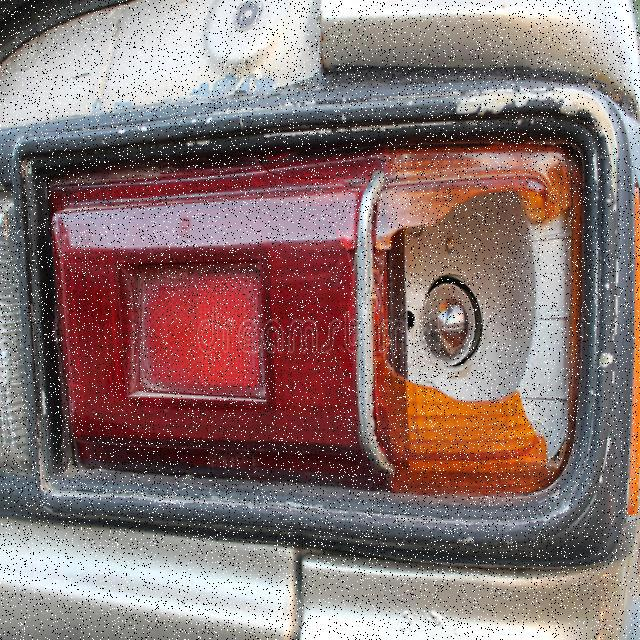Signlight-Damage: (344, 79, 619, 560)
